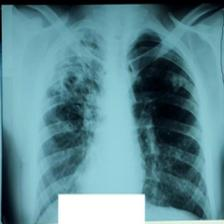tuberculosis: (28, 23, 216, 224)
